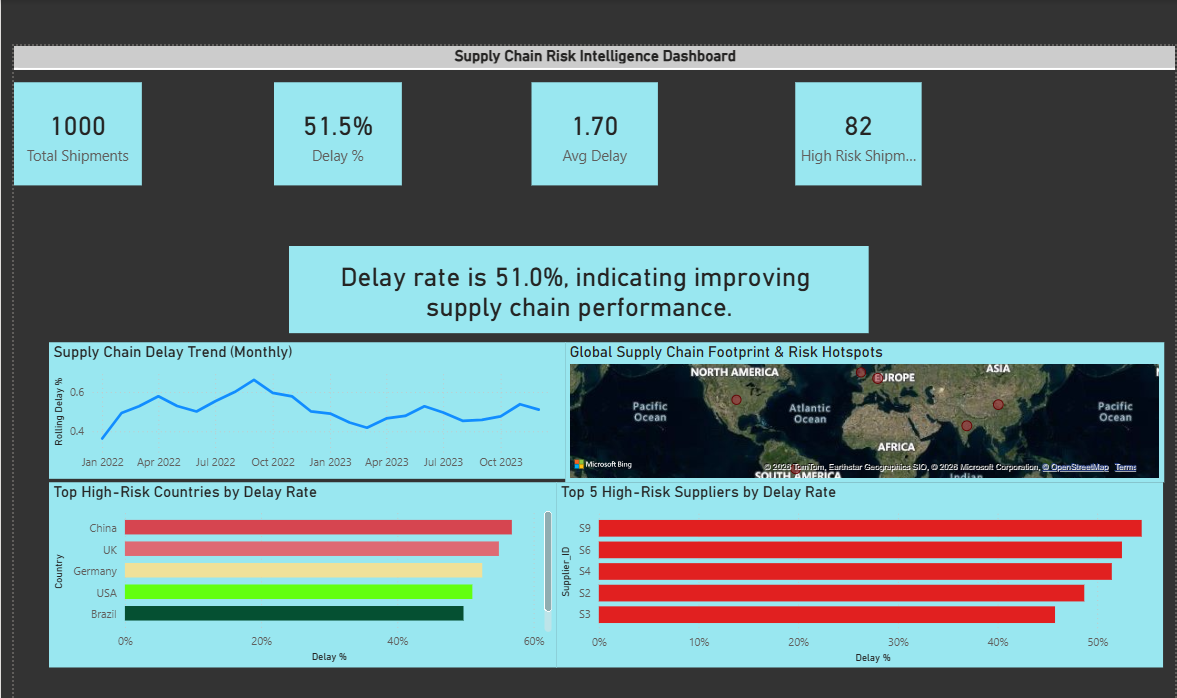

This screenshot's page, from the dashboard's own definition file:
{"tool":"powerbi","page":{"name":"SHIPMENT","canvas":[1280,720],"ordinal":0},"visuals":[{"type":"card","fields":{"Values":["shipment_data.Total Shipments"]},"box":[0,40.5,140.7,113.2],"z":0},{"type":"card","fields":{"Values":["shipment_data.Delay %"]},"box":[286.9,40.5,140.7,113.2],"z":1000},{"type":"card","fields":{"Values":["shipment_data.Avg Delay"]},"box":[570.3,40.5,139.5,113.2],"z":2000},{"type":"card","fields":{"Values":["shipment_data.High Risk Shipments"]},"box":[860.6,40.5,139.5,113.2],"z":3000},{"type":"lineChart","title":"Supply Chain Delay Trend (Monthly)","fields":{"Category":["DateTable.Date.Variation.Date Hierarchy.Year","DateTable.Date.Variation.Date Hierarchy.Month"],"Y":["shipment_data.Rolling Delay %"]},"box":[38.5,326.3,568.6,150.1],"z":4000},{"type":"card","fields":{"Values":["shipment_data.Insight Text"]},"box":[302.9,220.3,638.8,96.4],"z":5000},{"type":"map","title":"Global Supply Chain Footprint & Risk Hotspots","fields":{"Category":["Country.Country"],"Size":["shipment_data.Total Shipments"]},"box":[606.7,326.6,659.2,153.8],"z":6000},{"type":"clusteredBarChart","title":"Top High-Risk Countries by Delay Rate","fields":{"Category":["Country.Country"],"Y":["shipment_data.Delay %"]},"box":[38.5,480.4,558.9,203.7],"z":7000},{"type":"clusteredBarChart","title":"Top 5 High-Risk Suppliers by Delay Rate","fields":{"Category":["supplier_data.Supplier_ID"],"Y":["shipment_data.Delay %"]},"box":[598,480.6,667.7,204.2],"z":8000},{"type":"textbox","title":"Supply Chain Risk Intelligence Dashboard","box":[0,0,1280.3,26.2],"z":9000}]}

Visuals, with their boxes in screenshot pixels (x1, y1, x2, y2):
card - shipment_data.Total Shipments: bbox(12, 80, 140, 182)
card - shipment_data.Delay %: bbox(272, 80, 400, 182)
card - shipment_data.Avg Delay: bbox(529, 80, 656, 182)
card - shipment_data.High Risk Shipments: bbox(793, 80, 919, 182)
"Supply Chain Delay Trend (Monthly)" lineChart: bbox(47, 339, 563, 475)
card - shipment_data.Insight Text: bbox(287, 243, 866, 330)
"Global Supply Chain Footprint & Risk Hotspots" map: bbox(562, 339, 1160, 479)
"Top High-Risk Countries by Delay Rate" clusteredBarChart: bbox(47, 479, 554, 663)
"Top 5 High-Risk Suppliers by Delay Rate" clusteredBarChart: bbox(555, 479, 1160, 664)
"Supply Chain Risk Intelligence Dashboard" textbox: bbox(12, 43, 1173, 67)
